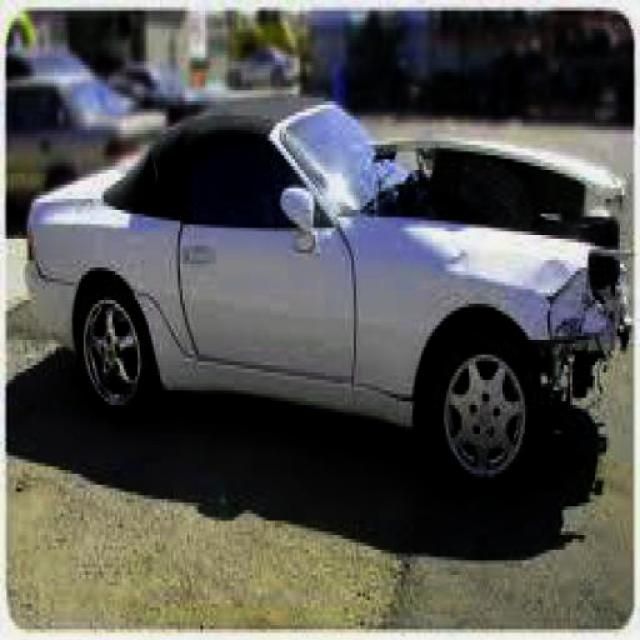car damage: (357, 129, 630, 445)
